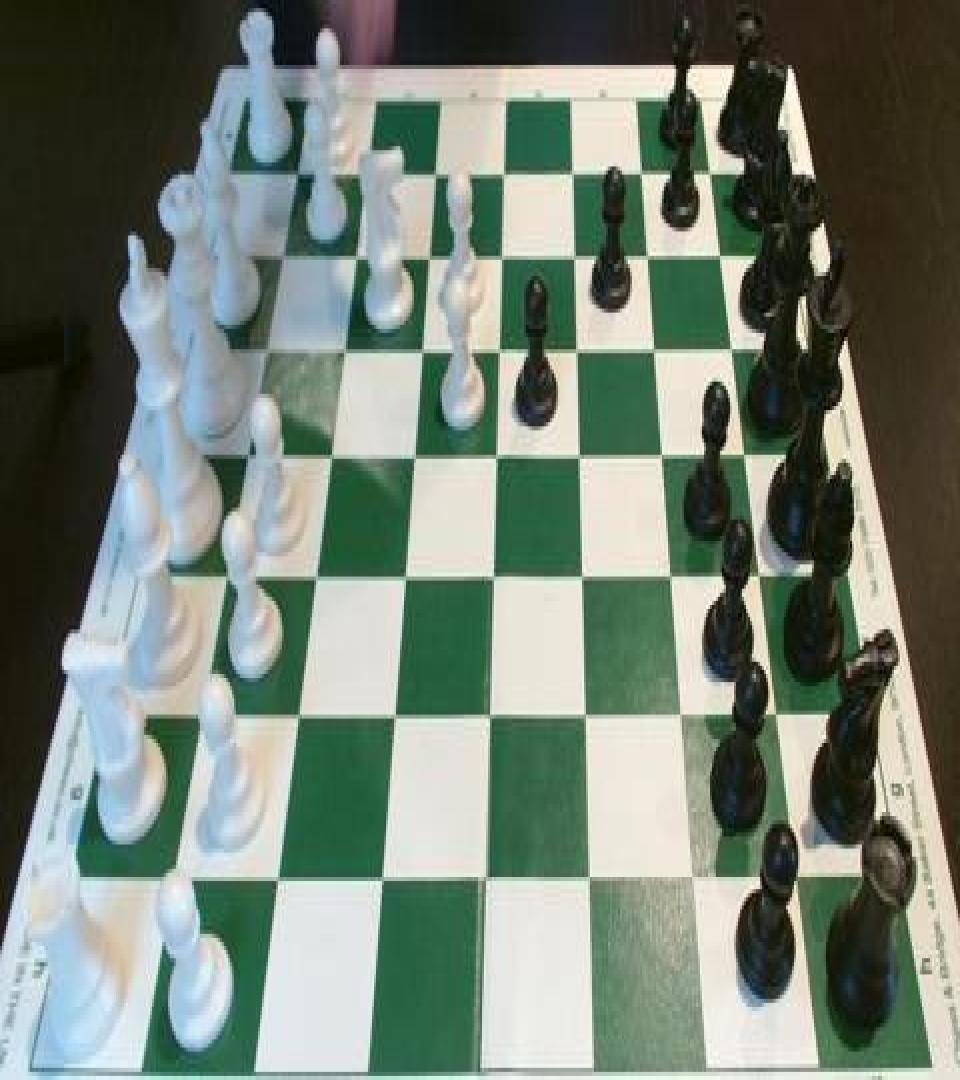xcorner: (705, 150, 725, 191), (635, 152, 655, 193), (565, 152, 585, 193), (496, 152, 516, 193), (426, 152, 446, 193), (357, 152, 377, 193), (287, 154, 307, 195), (737, 434, 757, 475), (654, 434, 674, 475), (571, 434, 591, 475), (487, 434, 507, 475), (751, 554, 771, 595), (662, 556, 682, 597), (573, 556, 593, 597), (484, 556, 504, 597), (394, 556, 414, 597), (305, 556, 325, 597), (217, 558, 237, 599), (767, 694, 787, 735), (671, 694, 691, 735), (575, 694, 595, 735), (479, 694, 499, 735), (384, 696, 404, 737), (288, 696, 308, 737), (192, 696, 212, 737), (714, 234, 734, 274), (641, 236, 661, 276), (567, 236, 587, 276), (493, 236, 513, 276), (420, 236, 440, 276), (346, 238, 366, 278), (272, 238, 292, 278), (725, 329, 745, 369), (647, 329, 667, 369), (569, 329, 589, 369), (490, 329, 510, 369), (412, 329, 432, 369), (334, 331, 354, 371), (256, 331, 276, 371), (404, 437, 424, 477), (321, 437, 341, 477), (238, 437, 258, 477), (786, 857, 806, 897), (682, 857, 702, 897), (578, 857, 598, 897), (475, 857, 495, 897), (371, 857, 391, 897), (267, 857, 287, 897), (164, 859, 184, 899)
